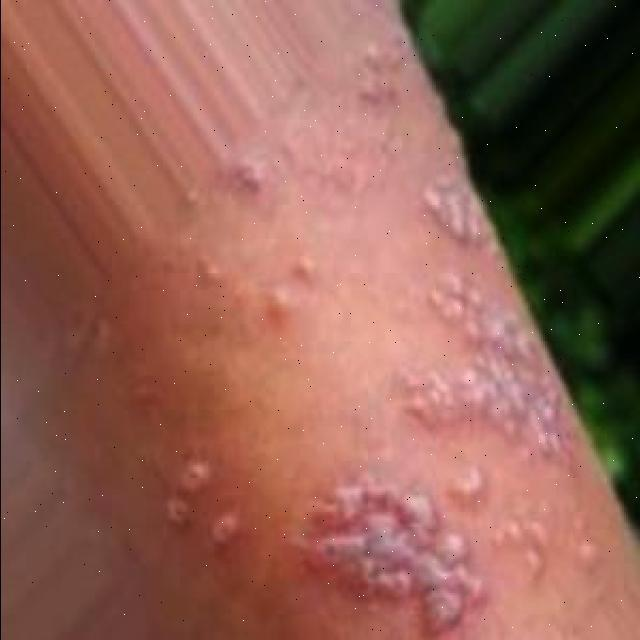Shingles: (302, 468, 477, 635), (403, 301, 566, 460), (162, 452, 226, 528), (421, 174, 487, 246)
